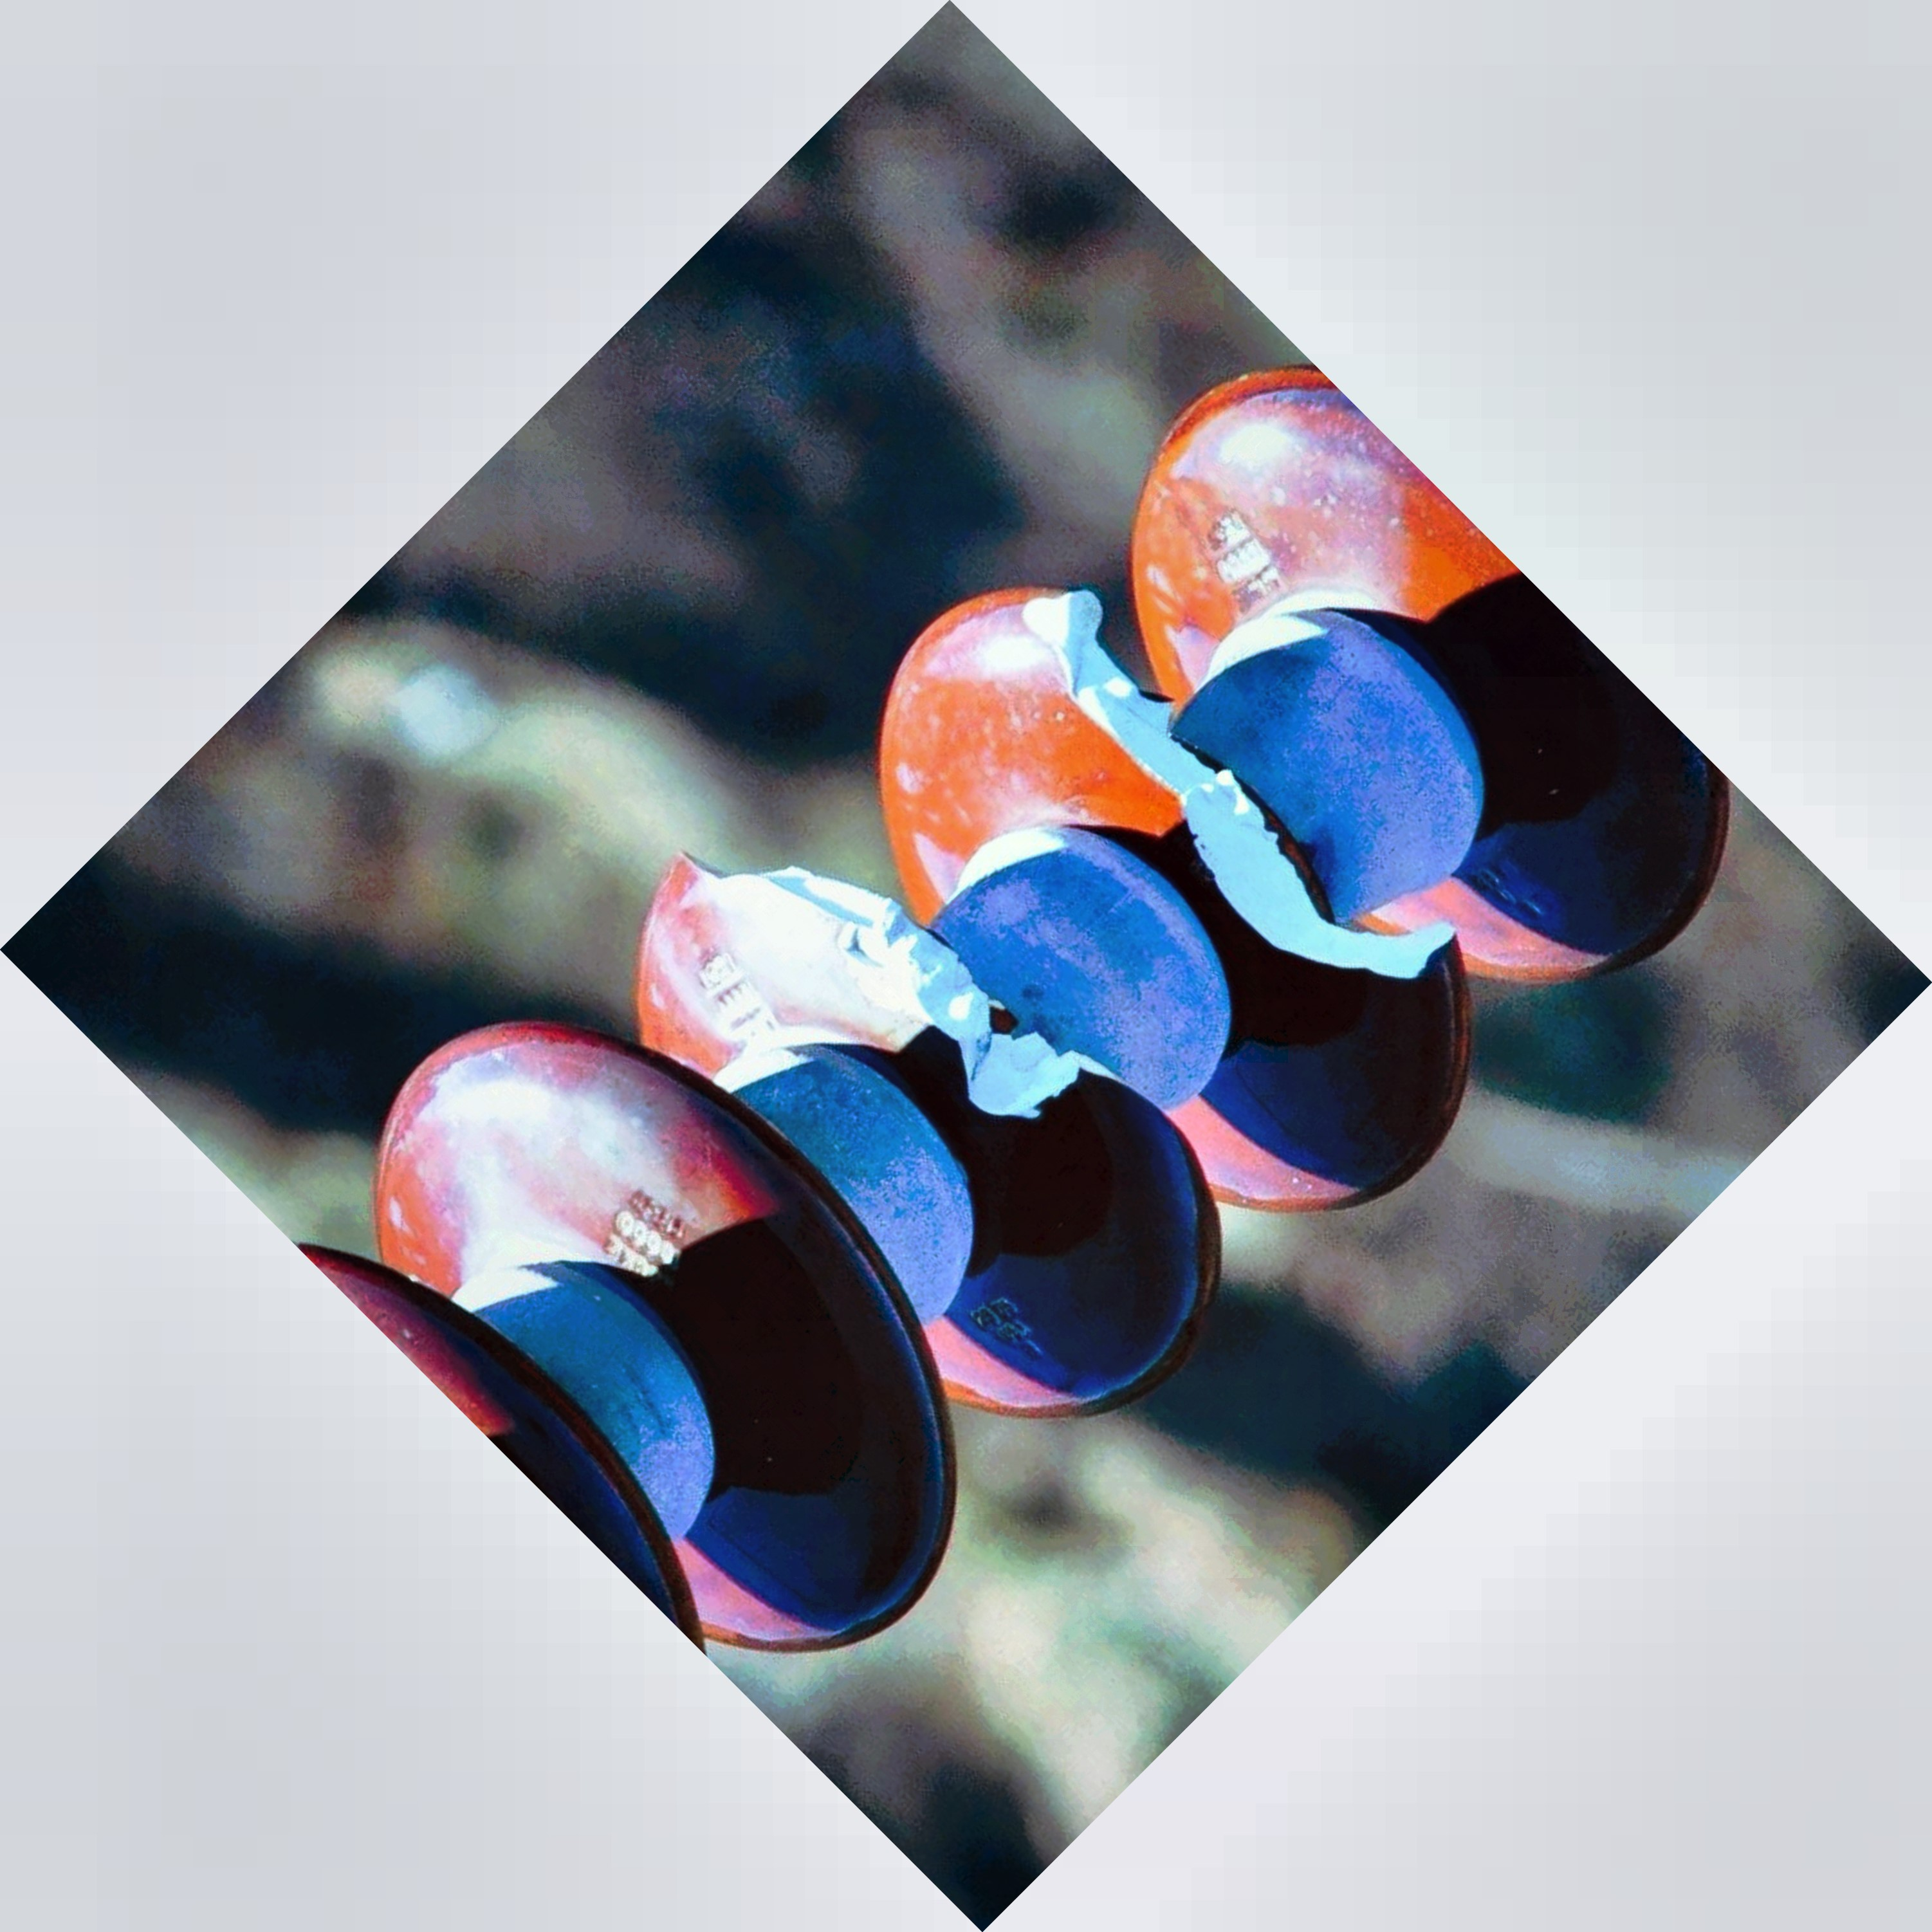insulator breakage: (637, 575, 1481, 1238)
